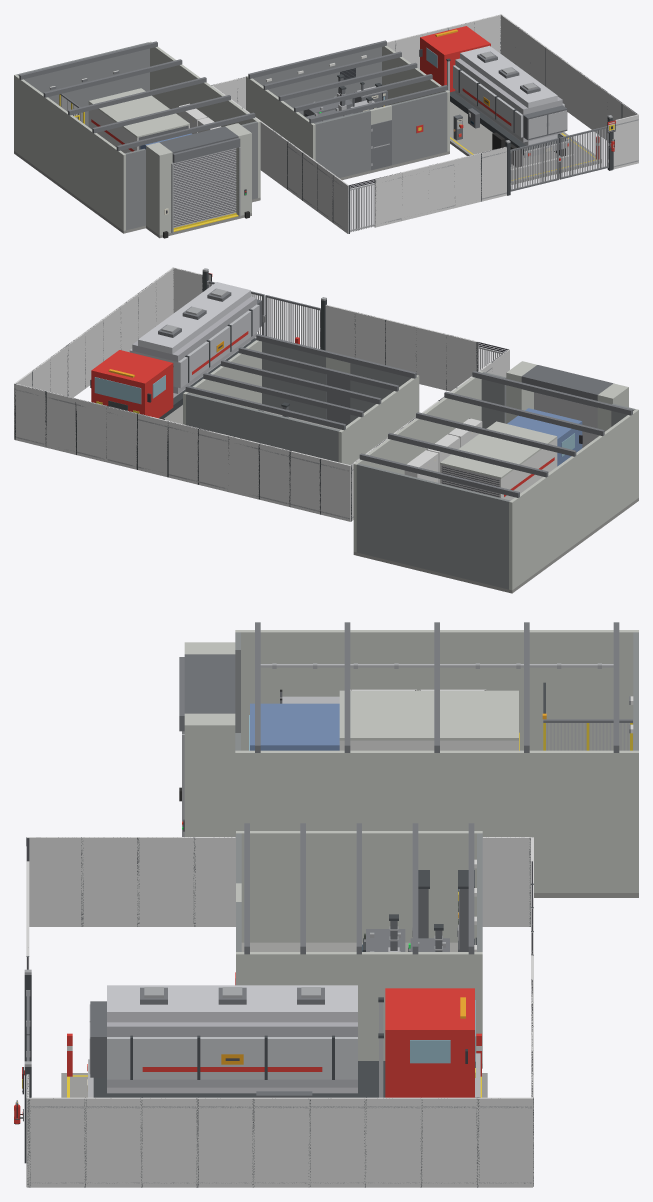
The model's file is Exterier.glb.
3 renders of one model, top to bottom at view 1: azimuth 30°, elevation 25°; view 2: azimuth 150°, elevation 25°; view 3: azimuth 270°, elevation 25°, orthographic. The views are drawn at different scales.
Parts seen in each view (by area): view 1: Dock, GeneratorBuilding, TankerTruck, RollUpDoor_Closed, YardGate, Truck, FuelDeliveryPad, YardFence-convcolonly.002, YardFence-convcolonly.003, YardFence-convcolonly.001, YardFence-convcolonly.004, YardFence (+23 smaller); view 2: Dock, GeneratorBuilding, TankerTruck, Truck, RollUpDoor_Closed, YardGate, YardFence-convcolonly.026, YardFence-convcolonly.023, YardFence-convcolonly.016, YardFence-convcolonly.019, YardFence-convcolonly.017, YardFence-convcolonly.025 (+22 smaller); view 3: Dock, TankerTruck, GeneratorBuilding, Truck, RollUpDoor_Closed, YardFence-convcolonly.007, YardFence-convcolonly.011, YardFence-convcolonly.009, YardFence-convcolonly.010, YardFence-convcolonly.008, YardFence-convcolonly.015, YardFence-convcolonly.033 (+13 smaller).
Boxes of the visible parts, box(x1,y1,x2,y2) form: Dock: box(14, 41, 260, 233); GeneratorBuilding: box(246, 40, 449, 180); TankerTruck: box(419, 26, 570, 167); RollUpDoor_Closed: box(146, 123, 251, 238); YardGate: box(505, 115, 612, 195); Truck: box(88, 88, 191, 153); FuelDeliveryPad: box(450, 101, 601, 184); YardFence-convcolonly.002: box(401, 166, 428, 220); YardFence-convcolonly.003: box(428, 159, 454, 214); YardFence-convcolonly.001: box(374, 172, 401, 227); YardFence-convcolonly.004: box(454, 153, 480, 208); YardFence: box(348, 179, 375, 233); Dock: box(353, 371, 638, 593); GeneratorBuilding: box(183, 334, 419, 464); TankerTruck: box(90, 282, 261, 419); Truck: box(440, 408, 582, 500); RollUpDoor_Closed: box(506, 361, 628, 447); YardGate: box(202, 268, 326, 350); YardFence-convcolonly.026: box(319, 458, 350, 521); YardFence-convcolonly.023: box(228, 435, 259, 499); YardFence-convcolonly.016: box(14, 384, 45, 447); YardFence-convcolonly.019: box(106, 406, 136, 469); YardFence-convcolonly.017: box(45, 391, 75, 454); YardFence-convcolonly.025: box(289, 451, 319, 514); Dock: box(235, 622, 638, 897); TankerTruck: box(87, 985, 480, 1097); GeneratorBuilding: box(235, 823, 482, 1068); Truck: box(249, 690, 519, 750); RollUpDoor_Closed: box(179, 642, 235, 836); YardFence-convcolonly.007: box(27, 1097, 84, 1187); YardFence-convcolonly.011: box(252, 1097, 308, 1187); YardFence-convcolonly.009: box(140, 1097, 196, 1187); YardFence-convcolonly.010: box(196, 1097, 252, 1187); YardFence-convcolonly.008: box(84, 1097, 140, 1187); YardFence-convcolonly.015: box(476, 1097, 532, 1187); YardFence-convcolonly.033: box(139, 837, 195, 926).
Size of what is drawn, in the model's own units: 21.78 by 3.75 by 13.93.
Materials: 53 (53 with a texture image).
